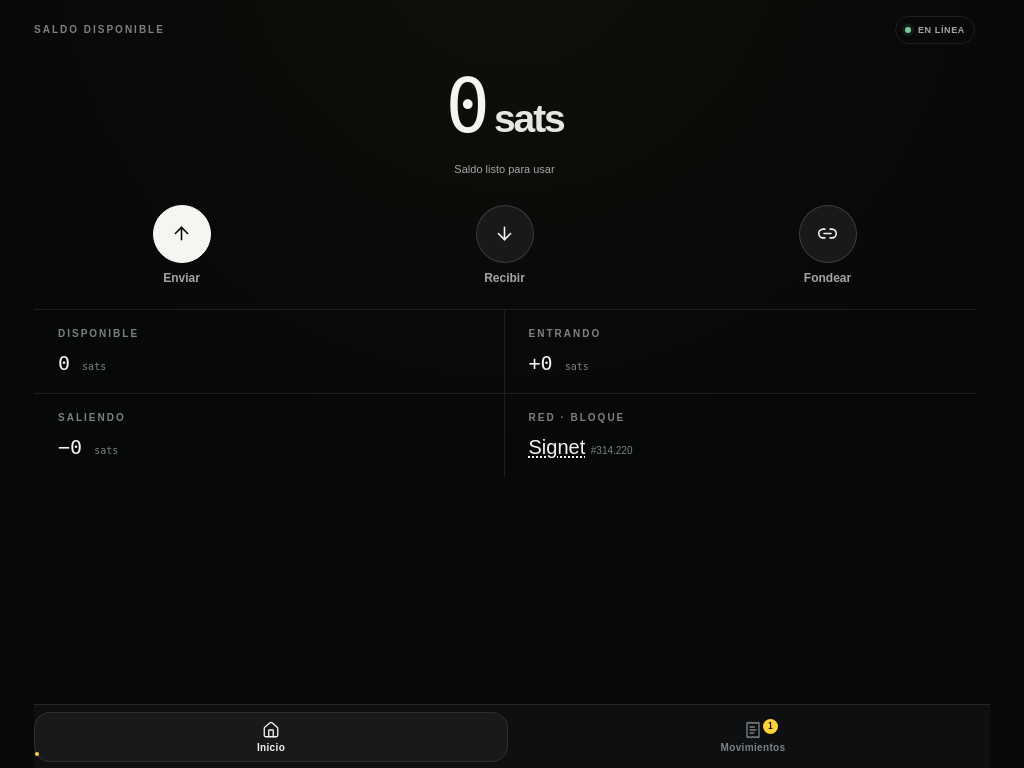
Test: Dashboard receive flow › keeps the balance and movements in separate viewport views
This screenshot has width=1024, height=768.
Expected: the element "Actividad reciente" is not shown
Click the tab "Movimientos 1": [753, 737] box [516,712,990,762]
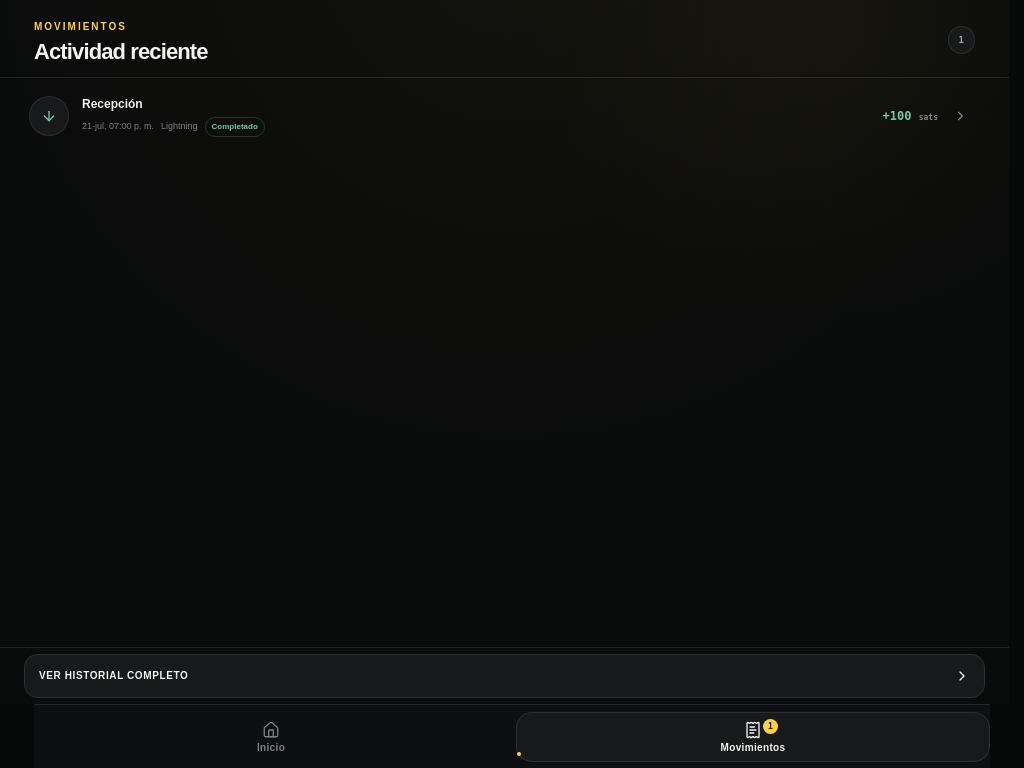
Result: the element "Actividad reciente" is shown
Result: the text "Saldo disponible" is gone
Click the tab "Inicio": [271, 737] box [34,712,508,762]
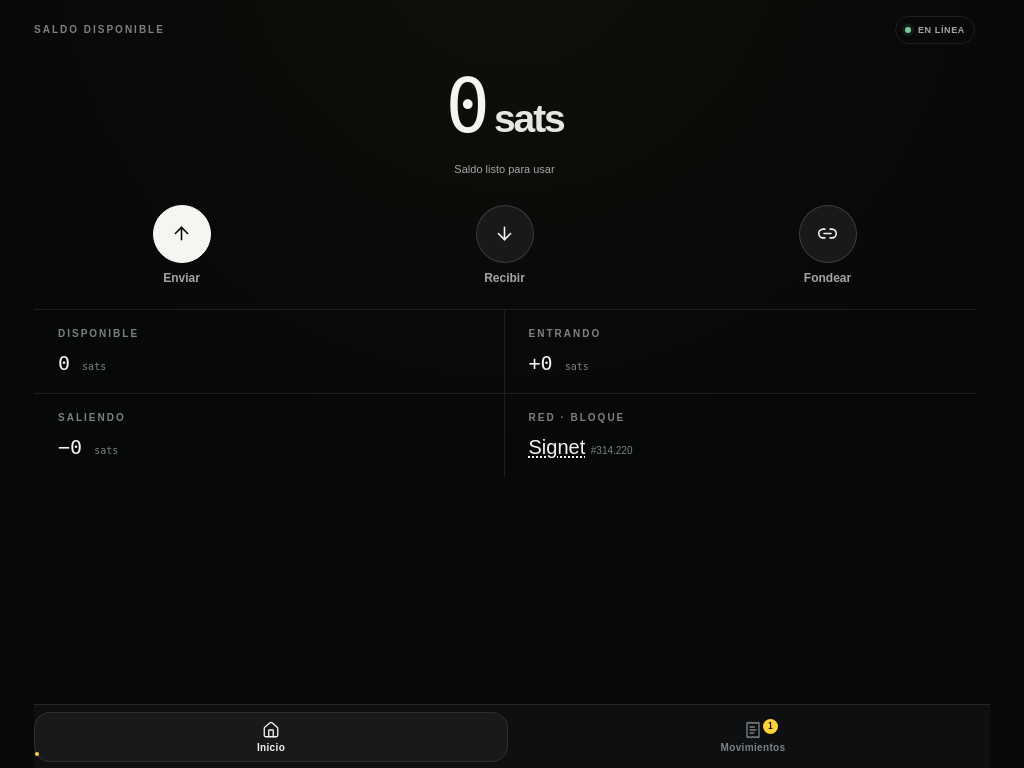
Result: the element "Saldo disponible" is shown
